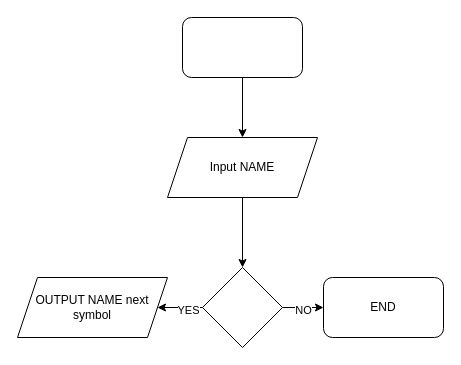
The diagram is 461 pixels wide and 365 high, and some of its shapes have lost their labels. The shapes that lost their labels are listed below. From the top down, each one's centre as x and y in pixels, then its label:
(242,47): START
(242,307): if less than the size of NAME repetitions
